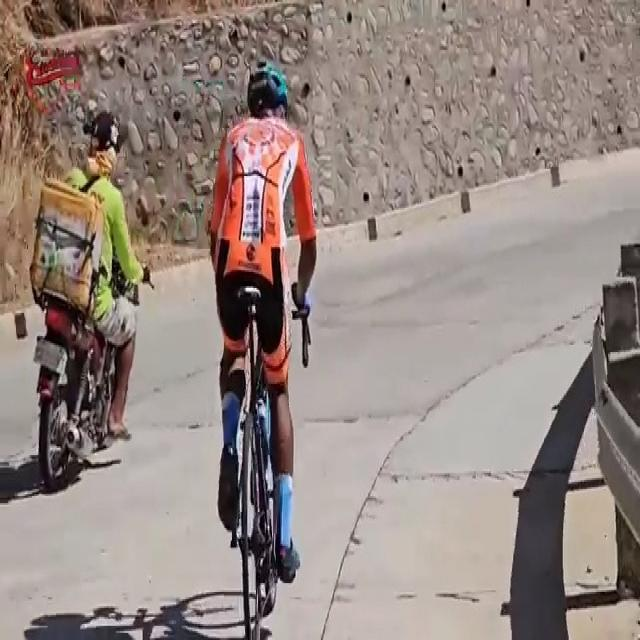bike: (208, 65, 319, 640)
